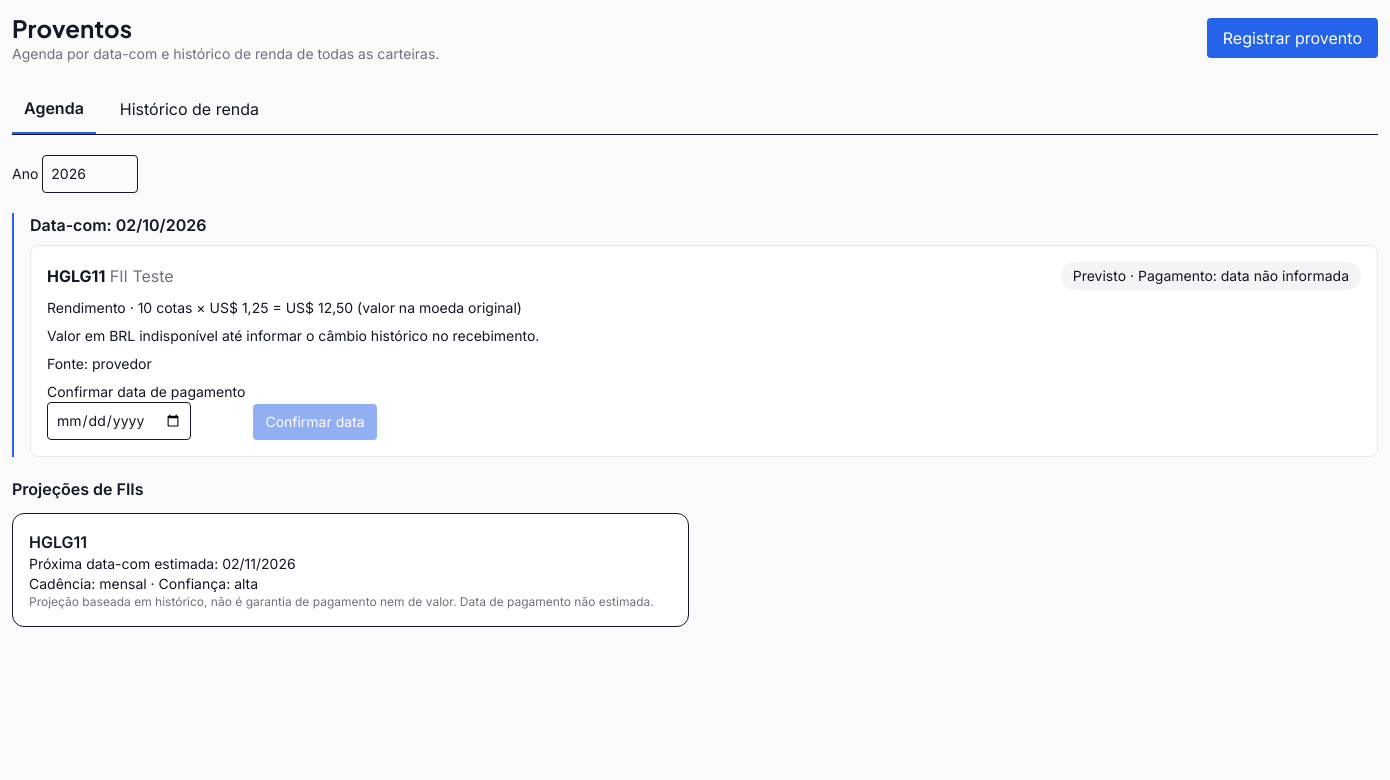
Test: dividend page › requires original historical FX to pay USD, sending exact micro-BRL and displaying native versus posted BRL
The width and height of the screenshot is (1390, 780).
Expected: the text "US$ 12,50 (valor na moeda original)" is shown, [47,299,522,316]
Expected: the text "Valor em BRL indisponível" is shown, [47,327,539,344]
Type "2026-10-15" into the date field named "Data de pagamento de HGLG11" at {"x": 119, "y": 421}, box [47,402,191,440]
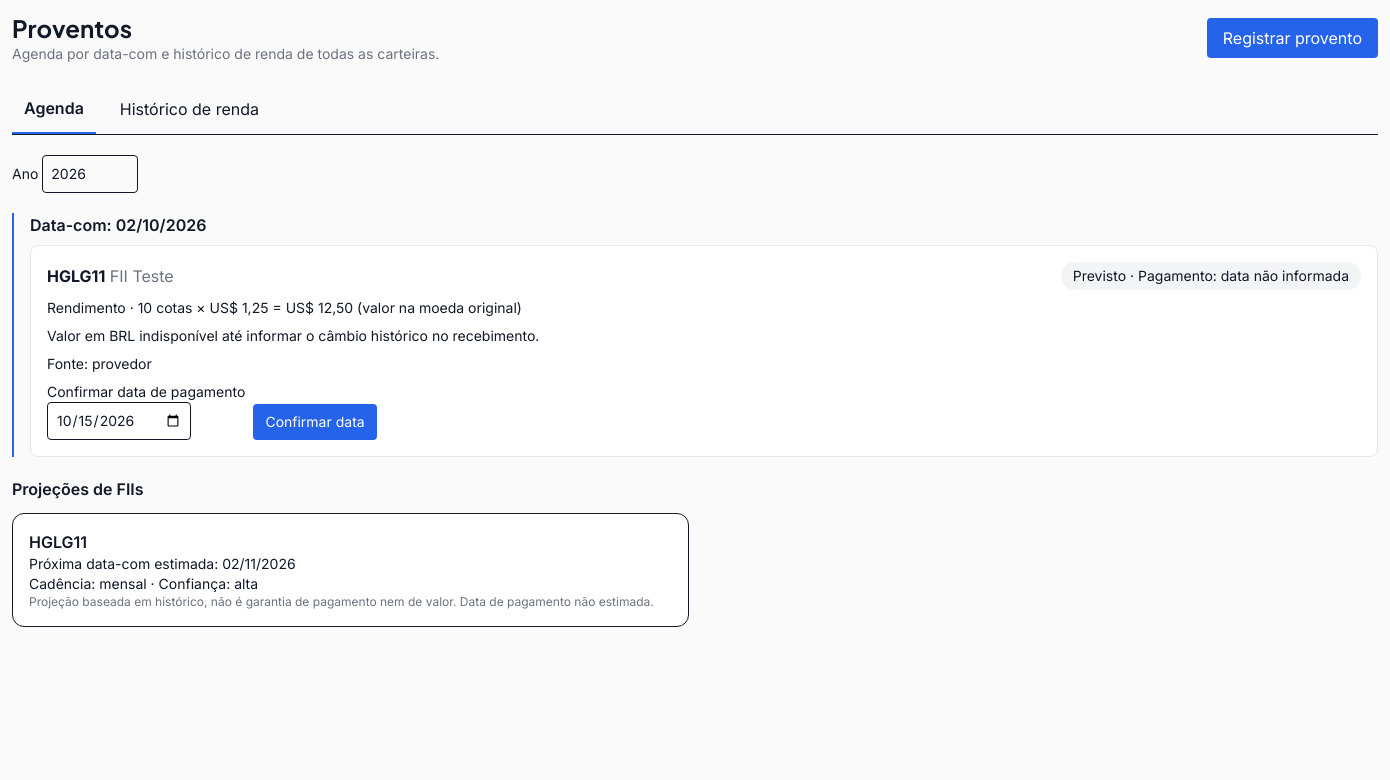
Click the button "Confirmar data" at {"x": 315, "y": 422}, box [253,404,377,440]
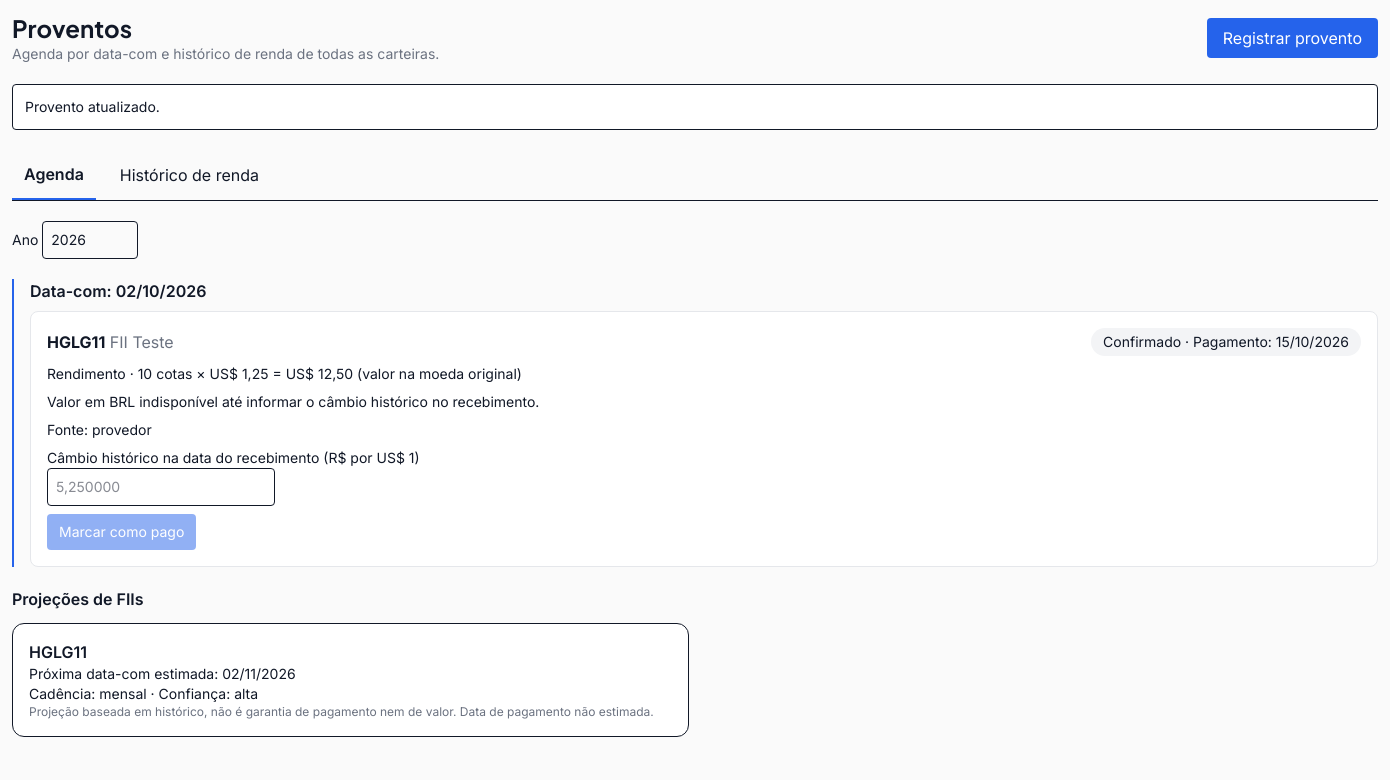
Expected: the button "Marcar como pago" is disabled, [47,514,196,550]
Type "0" into the field labelled "Câmbio histórico na data do recebimento (R$ por US$ 1)" at {"x": 161, "y": 487}, box [47,468,275,506]
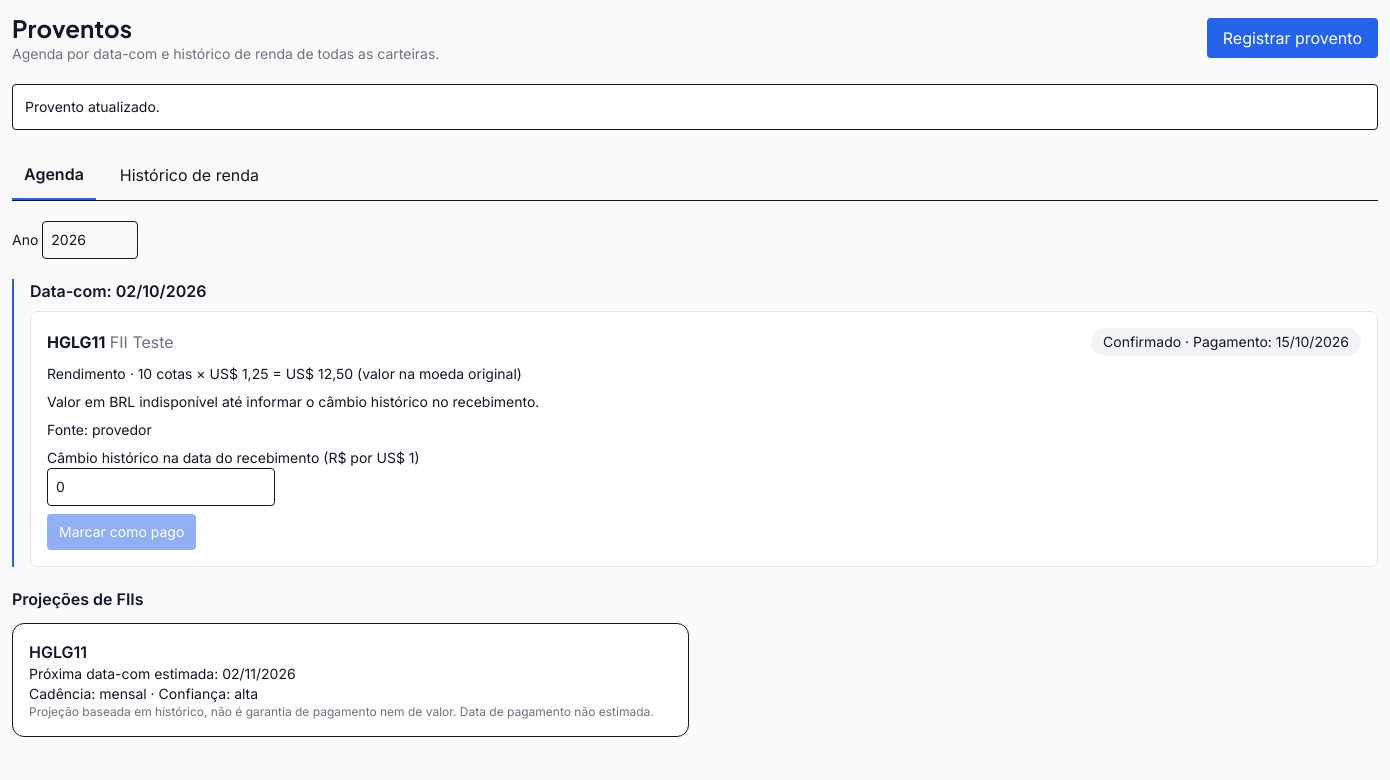
Expected: the button "Marcar como pago" is disabled, [47,514,196,550]
Replace the text in the field labelled "Câmbio histórico na data do recebimento (R$ por US$ 1)" with "5,250001" at {"x": 161, "y": 487}, box [47,468,275,506]
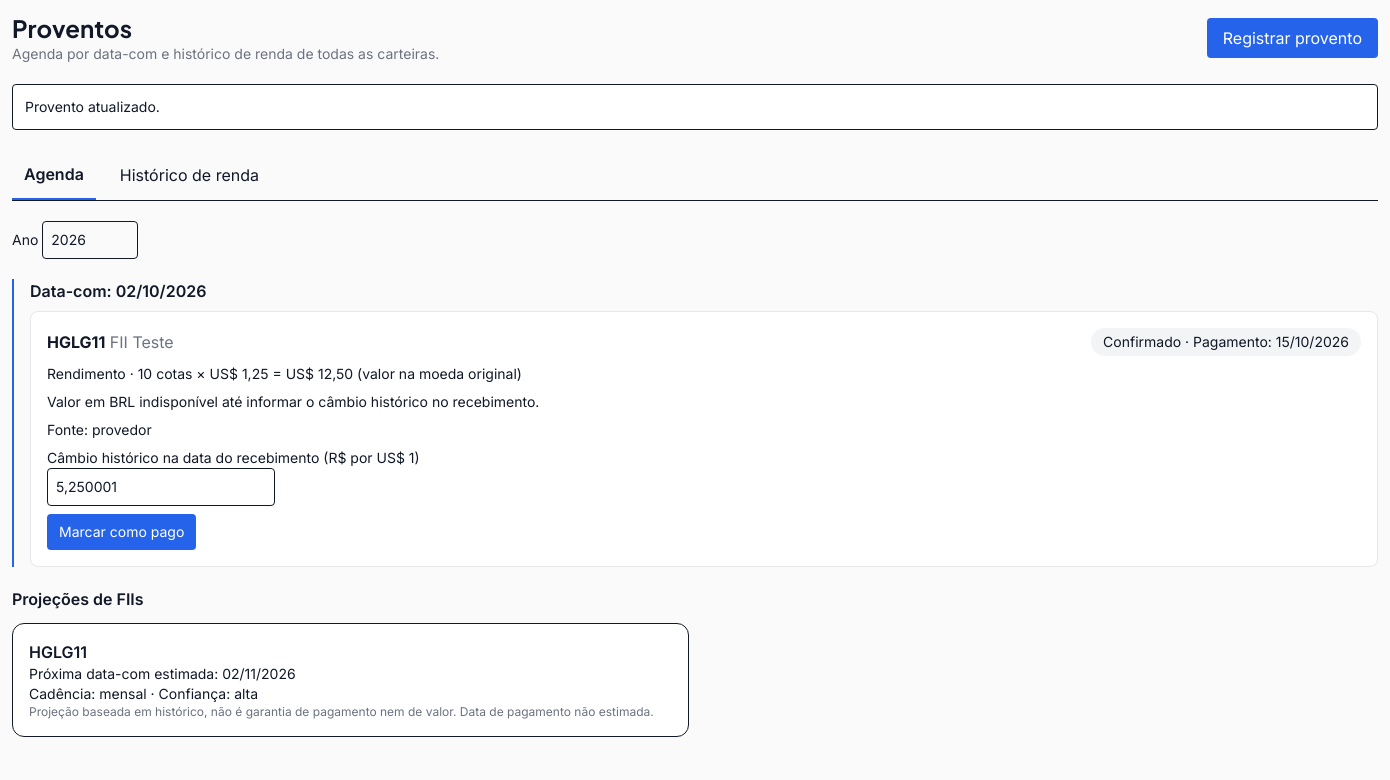
Click the button "Marcar como pago" at {"x": 122, "y": 532}, box [47,514,196,550]
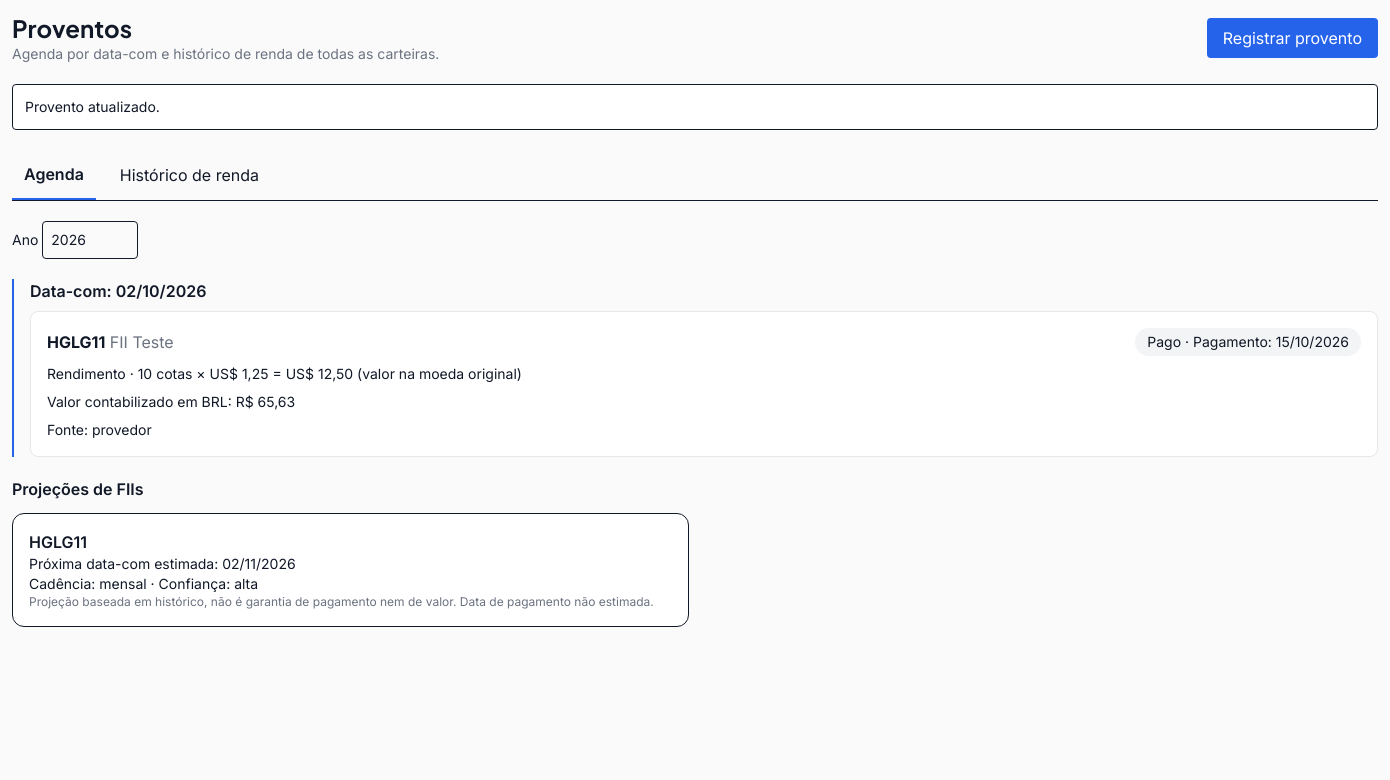
Expected: the text "Valor contabilizado em BRL: R$ 65,63" is shown, [47,393,295,410]
Click the tab "Histórico de renda" at {"x": 189, "y": 175}, box [108,150,271,200]
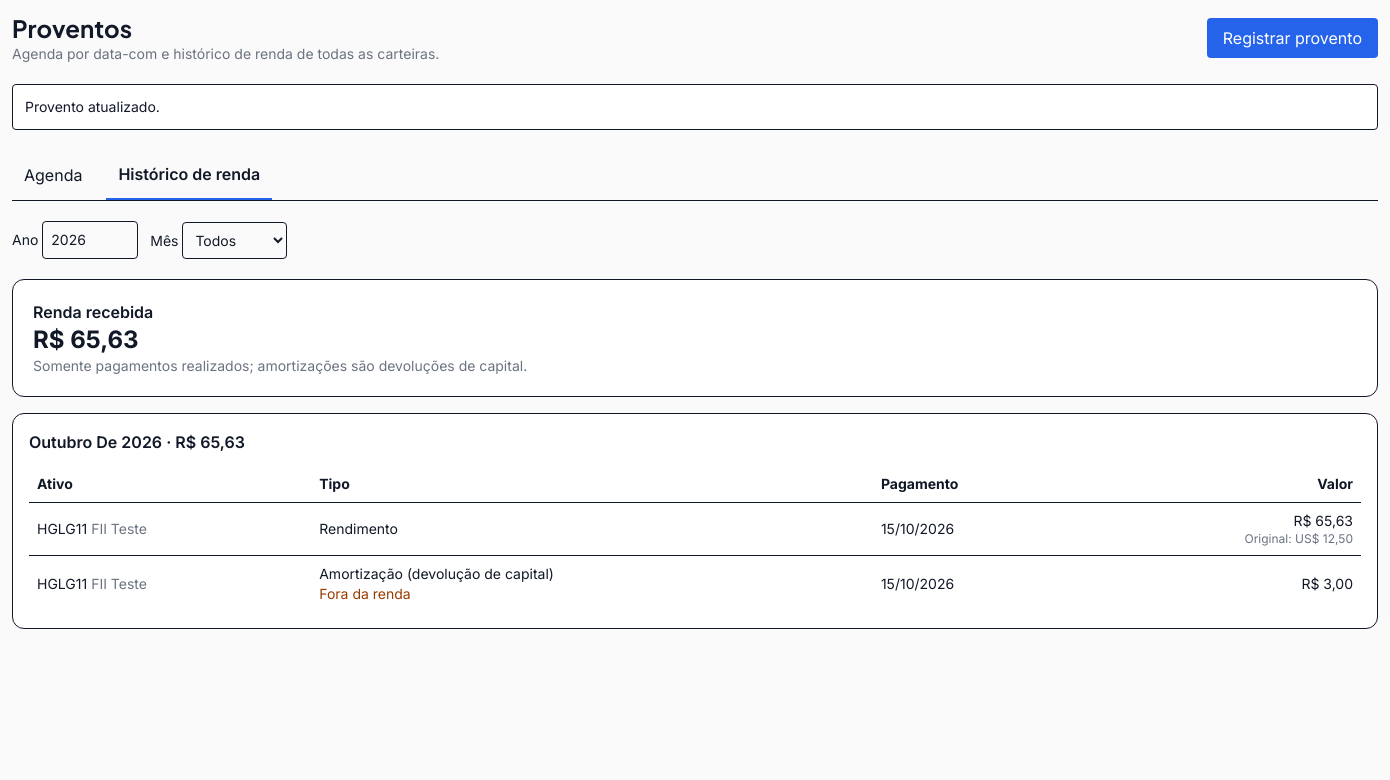
Expected: the heading "Renda recebida" is shown, [33,302,153,322]
Expected: the text "R$ 65,63" is shown, [33,325,138,354]
Expected: the text "Original: US$ 12,50" is shown, [1244,531,1353,546]
